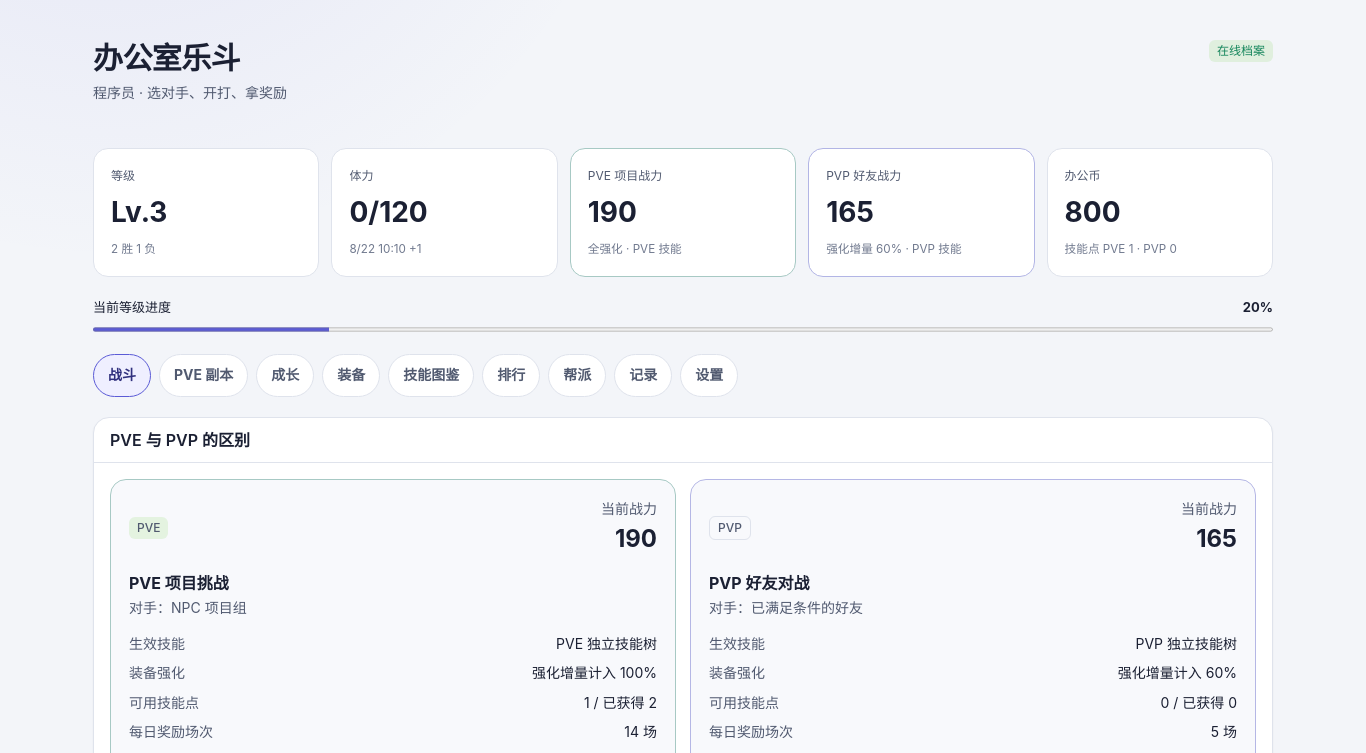
Test case: CommunityBattlePage formal archive › separates shared level growth from the PVE and PVP skill codexes
The image size is (1366, 753).
Expected: the heading "PVE 与 PVP 的区别" is shown, [110,430,250,450]
Expected: the text "全强化 · PVE 技能" is shown, [588,242,682,256]
Click the tab "成长" at (285, 376), box [256,354,314,397]
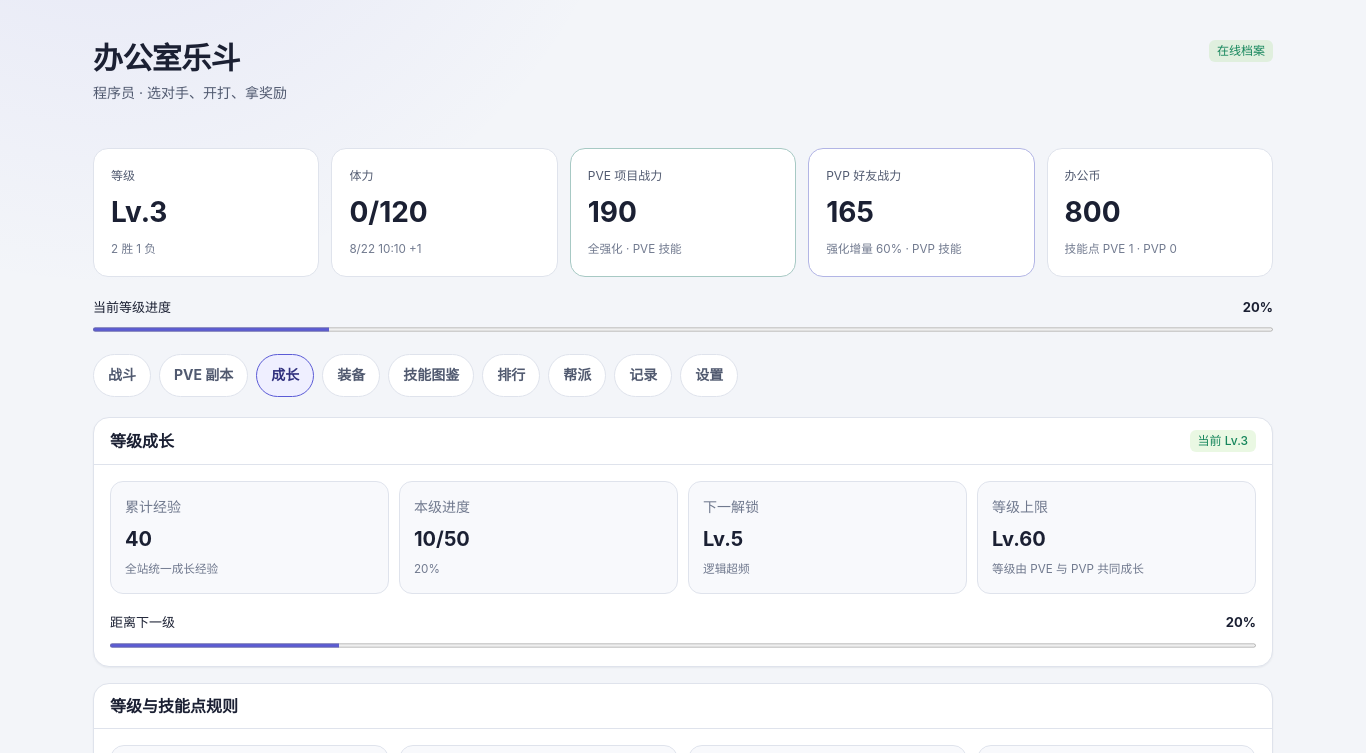
Expected: the heading "等级与技能点规则" is shown, [110,696,238,716]
Click the tab "技能图鉴" at (431, 376), box [388,354,474,397]
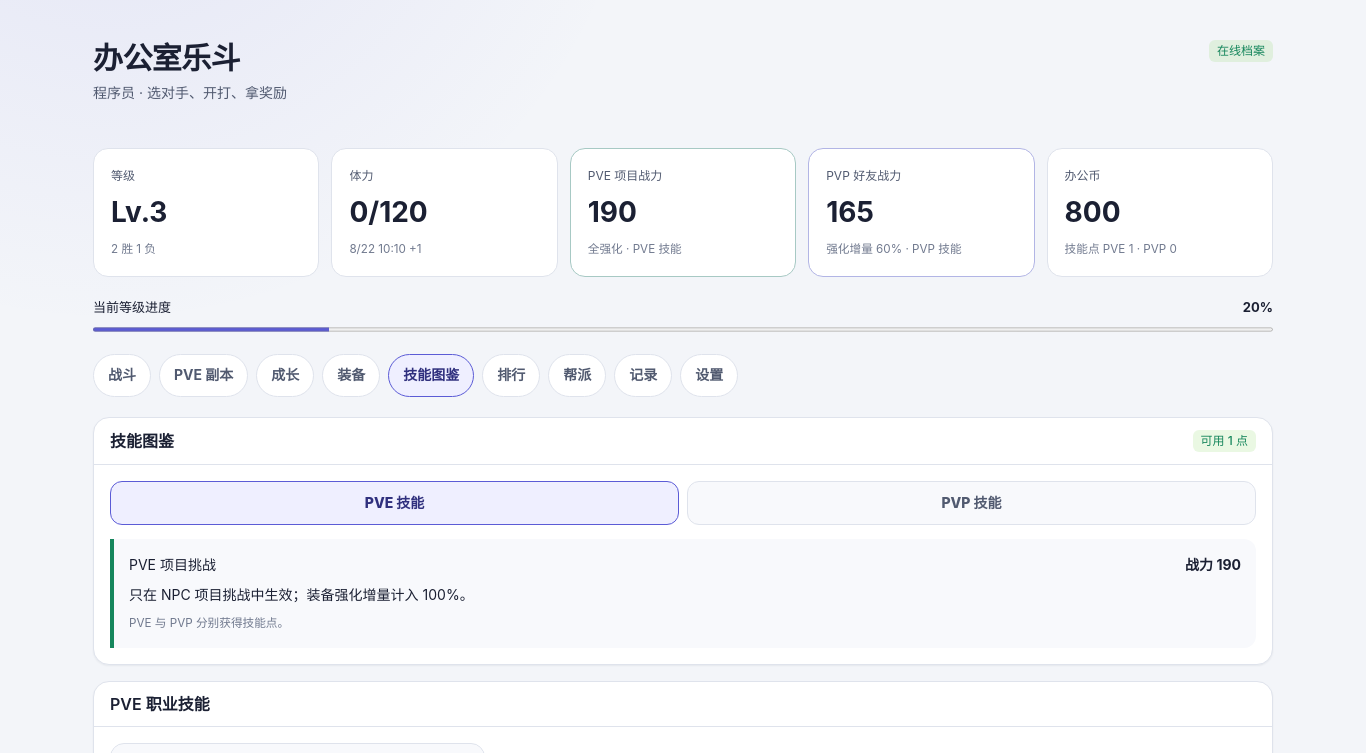
Expected: the text "逻辑超频" is gone
Click the tab "PVP 技能" at (972, 503), box [687,481,1256,525]
(page scrolled)
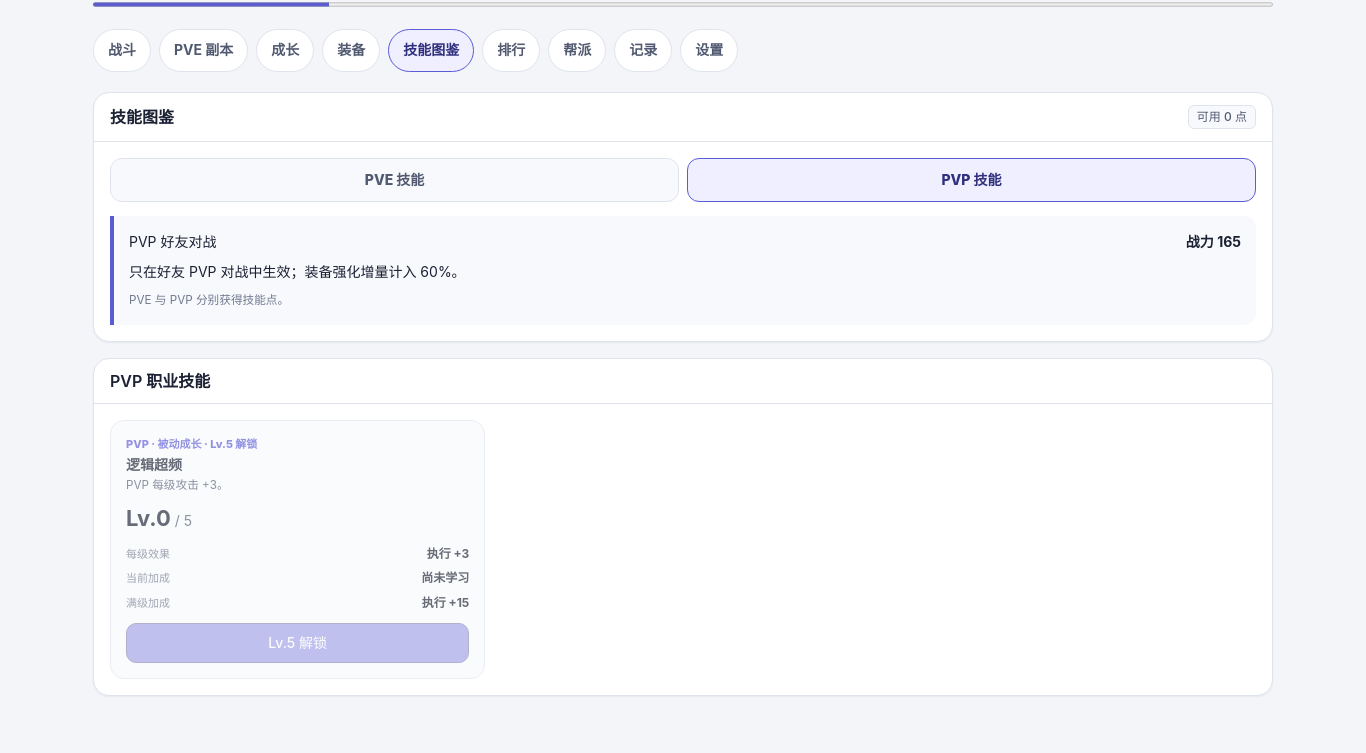
Expected: the text "逻辑超频" is shown, [126,456,182,472]
